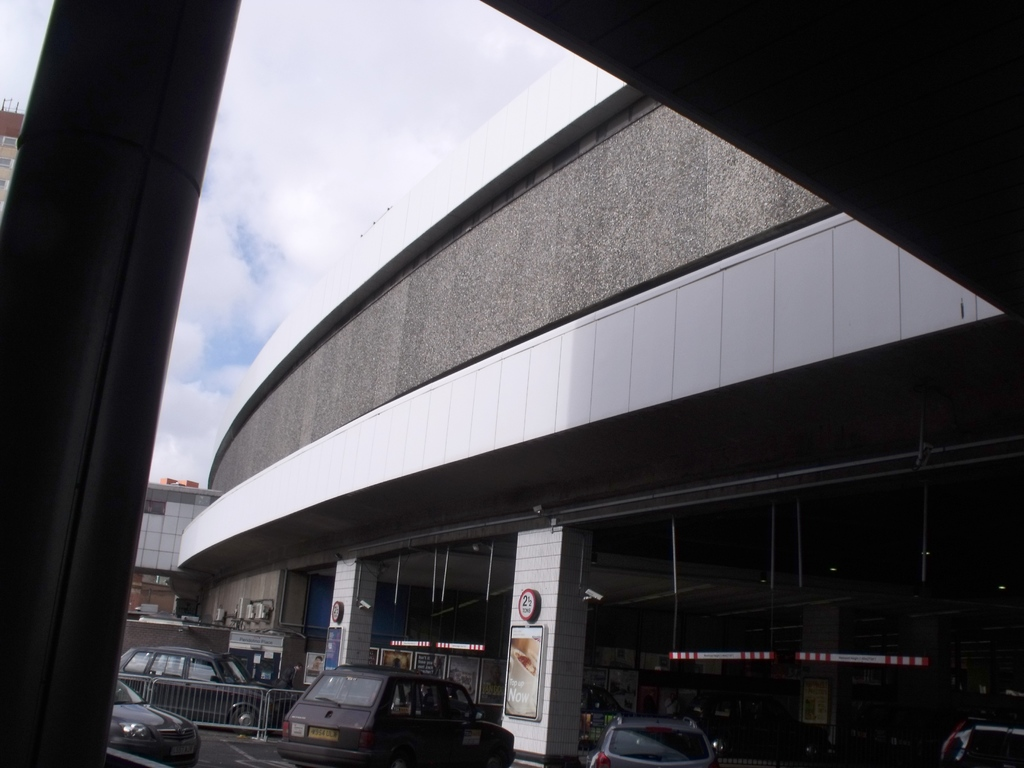Car: (279, 661, 517, 767), (110, 639, 289, 735), (108, 673, 203, 767), (586, 714, 726, 767)
